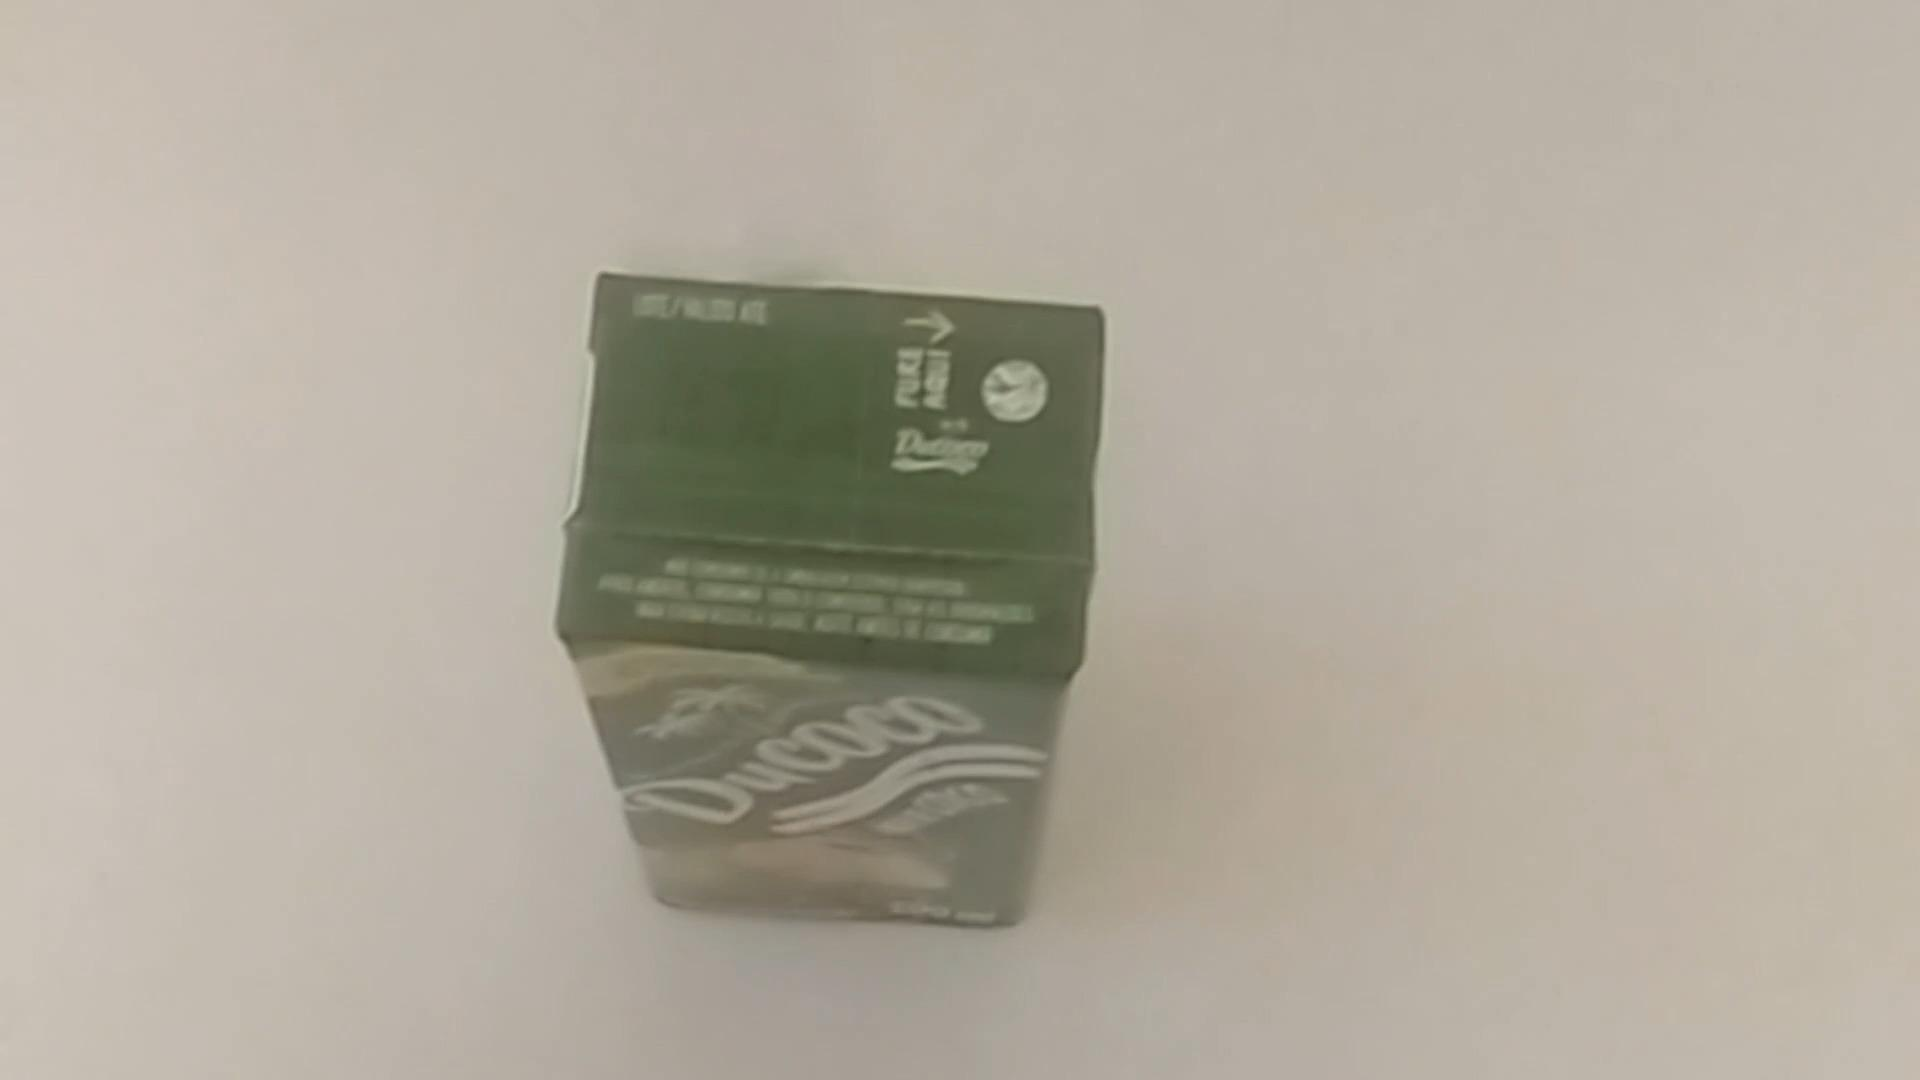coco: (556, 272, 1102, 936)
